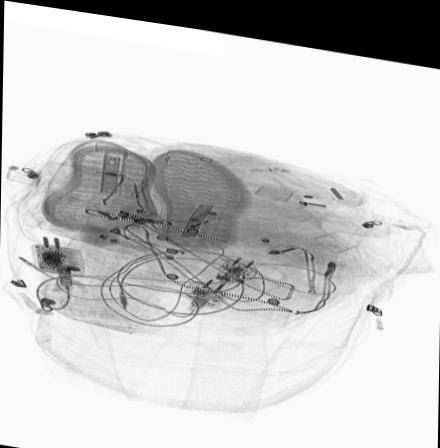Lighter: (210, 245, 261, 276)
